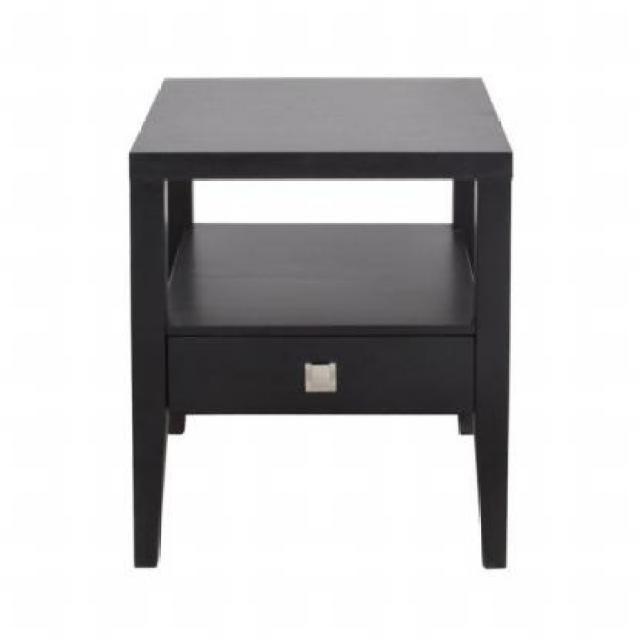table: (128, 67, 507, 570)
